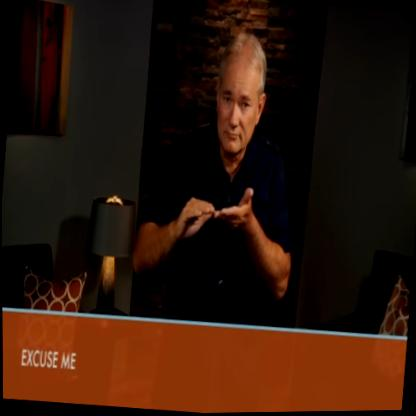ExcuseMe: (127, 24, 312, 326)
